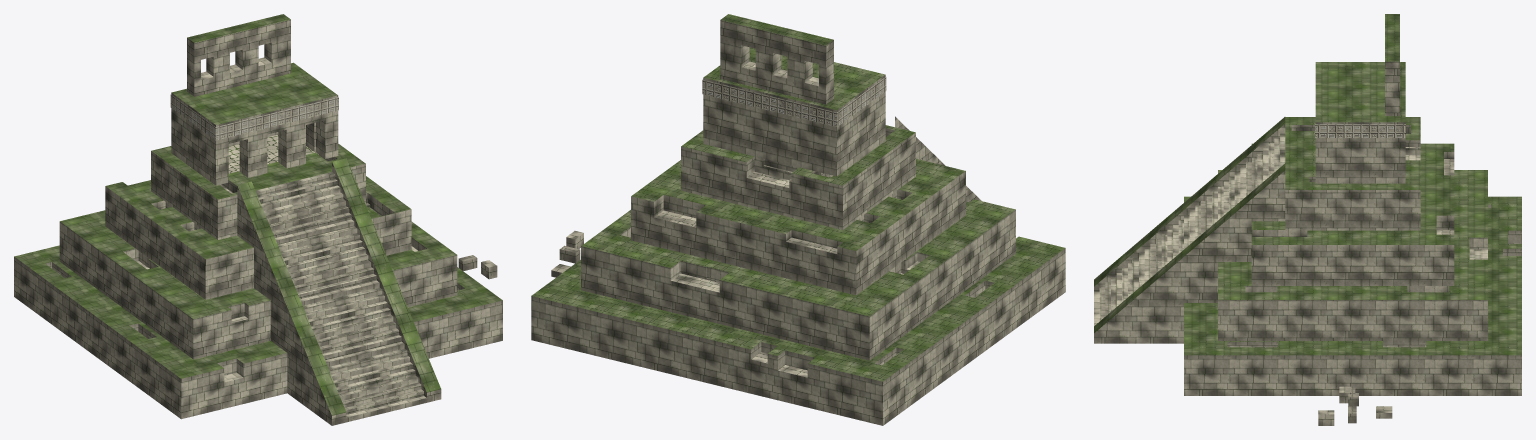
Rendered from ruin-temple-a.ruins-v1.lod1.glb.
The picture shows the model from 3 angles, left to right: view 1: azimuth 30°, elevation 25°; view 2: azimuth 150°, elevation 25°; view 3: azimuth 270°, elevation 25°; orthographic projection. The views are drawn at different scales.
Parts seen in each view (by area): view 1: ruin-temple-a; view 2: ruin-temple-a; view 3: ruin-temple-a.
Part boxes in pixels (bbox=[...]): ruin-temple-a: bbox=[14, 14, 502, 425]; ruin-temple-a: bbox=[531, 14, 1065, 425]; ruin-temple-a: bbox=[1094, 14, 1521, 425].
Size of the model in its own units: 23.78 by 16.4 by 22.8.
4 materials, 4 textured.
